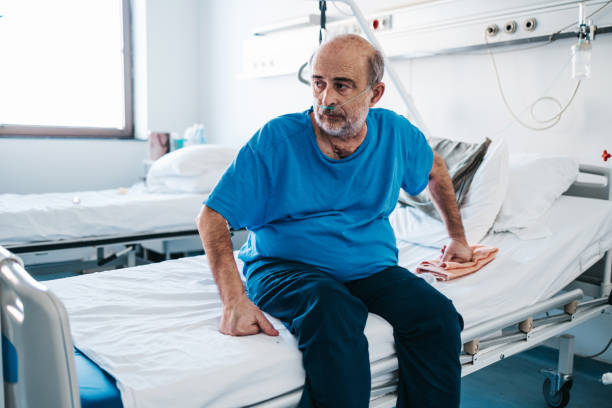bedrail: (468, 290, 612, 354)
foot_board: (1, 244, 82, 408)
hospital_bed: (1, 163, 612, 408), (1, 140, 250, 282)
patient: (197, 33, 472, 408)
